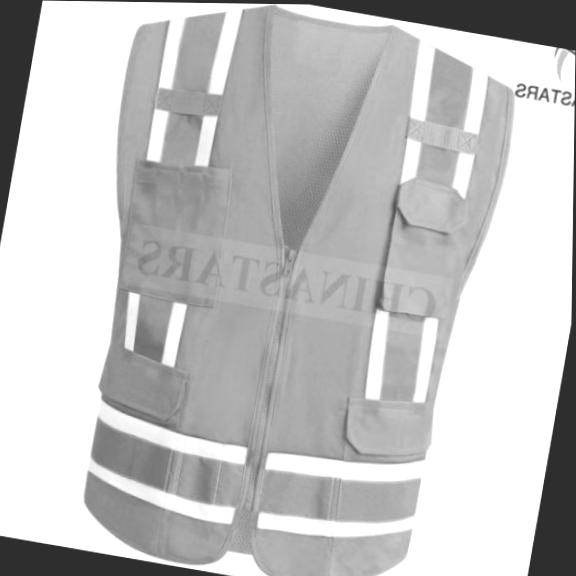safety_vest: (40, 1, 535, 576)
